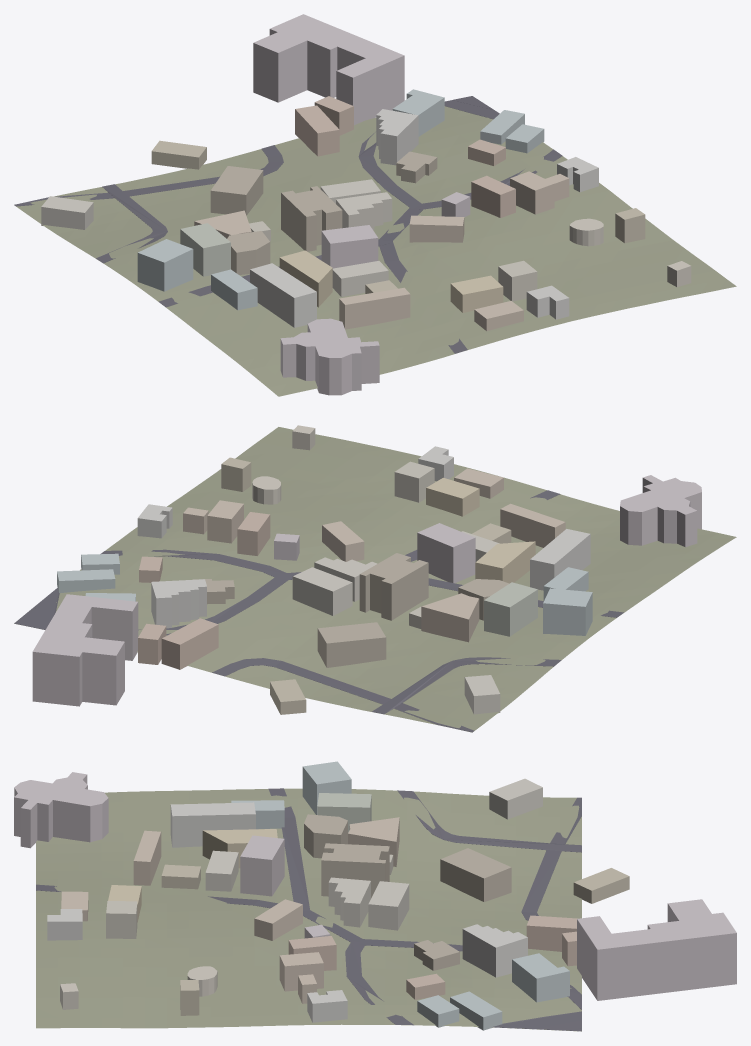
Rendered from chunk_5_0.glb.
3 renders of one model, top to bottom at view 1: azimuth 30°, elevation 25°; view 2: azimuth 150°, elevation 25°; view 3: azimuth 270°, elevation 25°, orthographic. The views are drawn at different scales.
Visible parts, largest first — view 1: geometry_41, geometry_34, geometry_0, geometry_4, geometry_18, geometry_17, geometry_25, geometry_36, geometry_7, geometry_5, geometry_11, geometry_19 (+30 smaller); view 2: geometry_41, geometry_34, geometry_0, geometry_4, geometry_36, geometry_7, geometry_5, geometry_18, geometry_11, geometry_23, geometry_17, geometry_12 (+32 smaller); view 3: geometry_41, geometry_34, geometry_0, geometry_18, geometry_7, geometry_4, geometry_5, geometry_36, geometry_29, geometry_12, geometry_37, geometry_43 (+34 smaller).
Part boxes in pixels (x1,y1,x2,y2): geometry_41: [16, 106, 736, 396]; geometry_34: [253, 14, 404, 125]; geometry_0: [280, 318, 379, 395]; geometry_4: [281, 186, 342, 251]; geometry_18: [250, 263, 316, 327]; geometry_17: [137, 239, 193, 291]; geometry_25: [339, 287, 410, 329]; geometry_36: [321, 225, 378, 268]; geometry_7: [210, 166, 263, 215]; geometry_5: [376, 109, 418, 165]; geometry_11: [180, 223, 230, 276]; geometry_19: [295, 105, 339, 156]; geometry_41: [14, 427, 736, 732]; geometry_34: [32, 594, 138, 706]; geometry_0: [620, 475, 701, 547]; geometry_4: [359, 553, 428, 620]; geometry_36: [417, 523, 475, 583]; geometry_7: [317, 622, 386, 667]; geometry_5: [151, 579, 206, 628]; geometry_18: [530, 529, 590, 590]; geometry_11: [484, 582, 537, 636]; geometry_23: [421, 593, 479, 642]; geometry_17: [543, 588, 592, 635]; geometry_12: [292, 567, 352, 615]; geometry_41: [36, 788, 581, 1031]; geometry_34: [577, 899, 736, 1000]; geometry_0: [14, 772, 108, 848]; geometry_18: [170, 802, 255, 847]; geometry_7: [440, 848, 511, 901]; geometry_4: [321, 843, 389, 898]; geometry_5: [462, 924, 527, 977]; geometry_36: [240, 835, 284, 896]; geometry_29: [512, 953, 569, 1002]; geometry_12: [368, 881, 409, 930]; geometry_37: [328, 877, 370, 927]; geometry_43: [268, 788, 310, 910].
Bounding box in the file's own units: 253 × 27.87 × 331.
